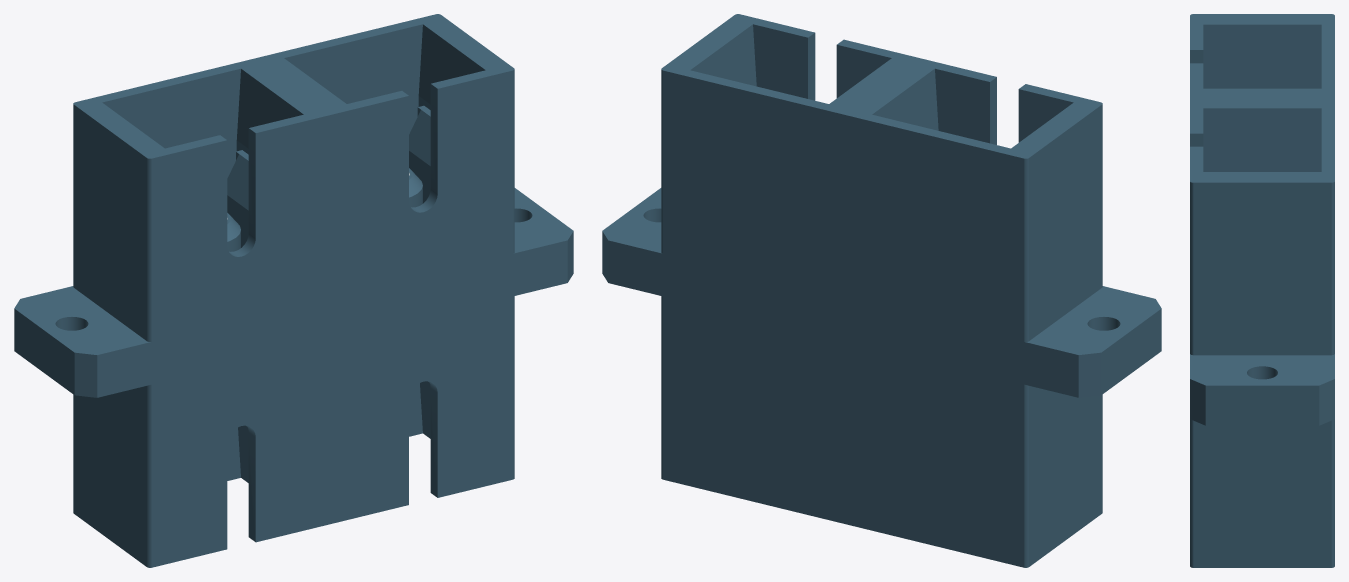
Rendered from sc_port_visual.glb.
3 views of the same model, side by side, from view 1: azimuth 30°, elevation 25°; view 2: azimuth 150°, elevation 25°; view 3: azimuth 270°, elevation 25° (orthographic). The views are drawn at different scales.
Parts seen in each view (by area): view 1: Cube.003; view 2: Cube.003; view 3: Cube.003.
Boxes of the visible parts, left/top/right/bottom form: Cube.003: left=14, top=14, right=573, bottom=567; Cube.003: left=602, top=14, right=1161, bottom=567; Cube.003: left=1190, top=14, right=1334, bottom=567.
Bounding box in the file's own units: 0.0349 × 0.0273 × 0.0093.
